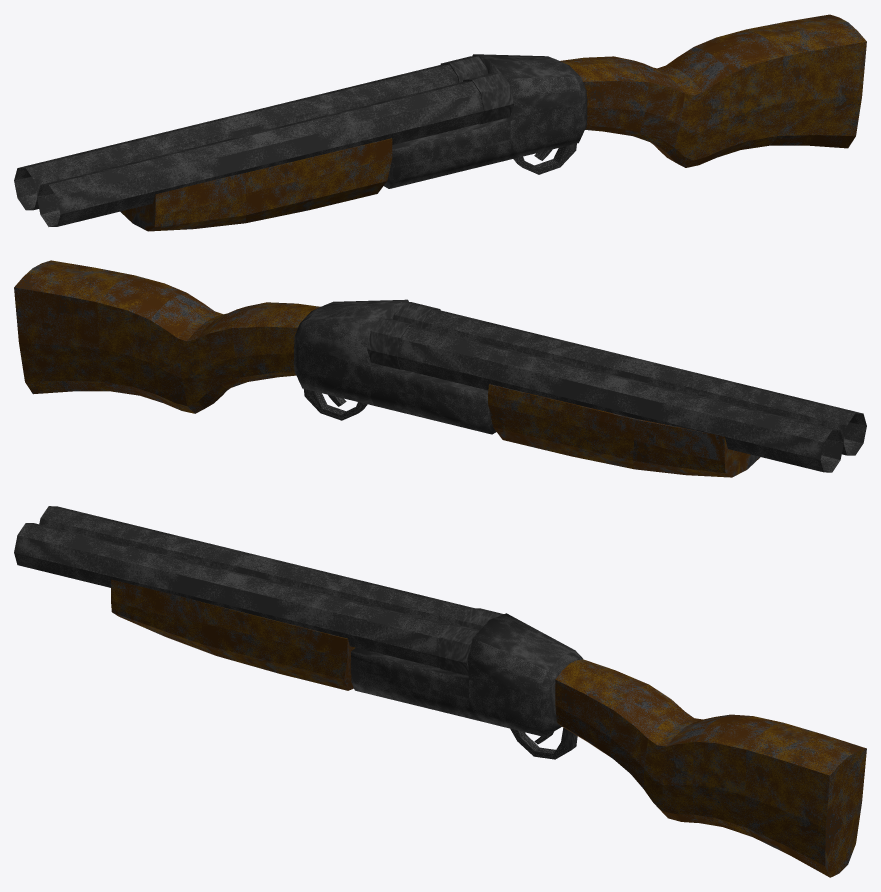
File: Shotgun3.fbx
3 views of the same model, one above another, from view 1: azimuth 30°, elevation 25°; view 2: azimuth 150°, elevation 25°; view 3: azimuth 330°, elevation 25° (orthographic).
Visible parts, largest first — view 1: Stock, Barrels, Metal, Grip, BarelStart, Cube.004; view 2: Stock, Barrels, Grip, Metal, BarelStart, Cube.004; view 3: Stock, Barrels, Metal, Grip, BarelStart, Cube.004.
Part boxes in pixels (x1=…): Stock: x1=560, y1=14, x2=866, y2=167; Barrels: x1=14, y1=64, x2=483, y2=226; Metal: x1=384, y1=54, x2=587, y2=188; Grip: x1=120, y1=138, x2=392, y2=231; BarelStart: x1=440, y1=56, x2=513, y2=124; Cube.004: x1=513, y1=143, x2=576, y2=174; Stock: x1=14, y1=260, x2=320, y2=413; Barrels: x1=397, y1=310, x2=866, y2=472; Grip: x1=488, y1=384, x2=760, y2=477; Metal: x1=294, y1=299, x2=496, y2=434; BarelStart: x1=367, y1=301, x2=440, y2=369; Cube.004: x1=303, y1=389, x2=367, y2=420; Stock: x1=555, y1=659, x2=866, y2=877; Barrels: x1=14, y1=506, x2=474, y2=667; Metal: x1=351, y1=613, x2=582, y2=736; Grip: x1=111, y1=579, x2=355, y2=690; BarelStart: x1=437, y1=608, x2=503, y2=675; Cube.004: x1=510, y1=728, x2=577, y2=759.
Size of the model in its own units: 183 by 36.48 by 18.45.
2 materials, 2 textured.
